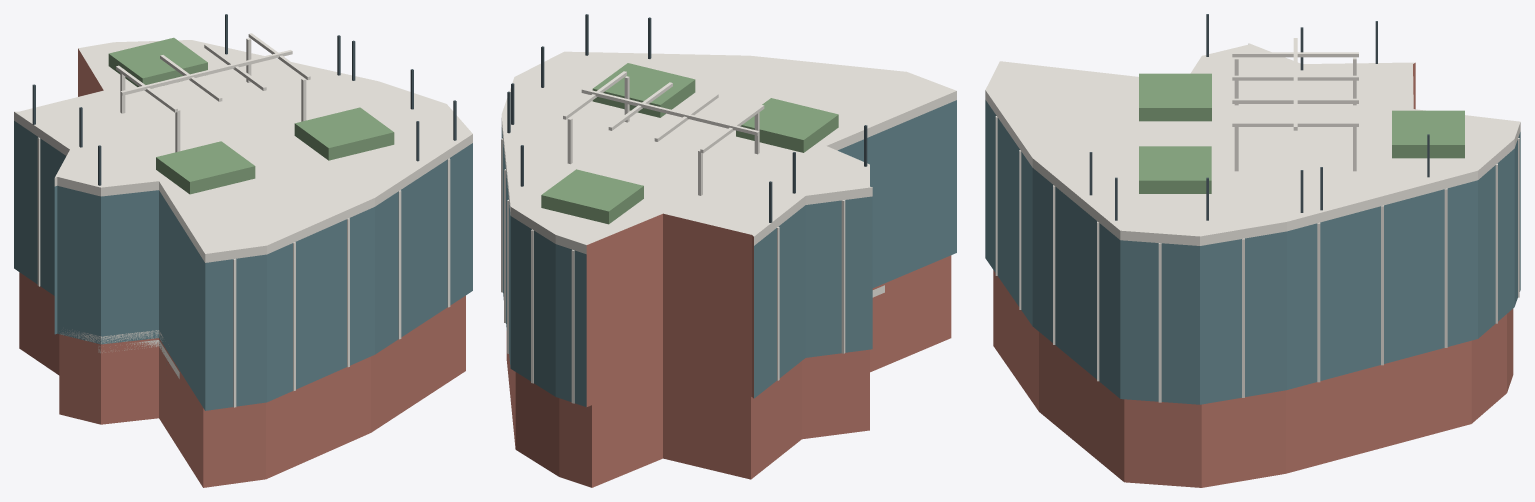
The model's file is gsh.glb.
The picture shows the model from 3 angles, left to right: view 1: azimuth 30°, elevation 25°; view 2: azimuth 150°, elevation 25°; view 3: azimuth 270°, elevation 25°; orthographic projection. The views are drawn at different scales.
Visible parts, largest first — view 1: GSH_glass, GSH_roof_slab, GSH_base, GSH_planter_1, GSH_planter_0, GSH_planter_2, GSH_pergola_top, GSH_mid_band, GSH_mullion_10_0, GSH_mullion_0_0, GSH_mullion_2_0, GSH_mullion_2_1; view 2: GSH_glass, GSH_roof_slab, GSH_base, GSH_planter_2, GSH_planter_0, GSH_planter_1, GSH_pergola_top, GSH_mullion_11_0, GSH_mullion_7_0; view 3: GSH_glass, GSH_roof_slab, GSH_base, GSH_planter_0, GSH_planter_2, GSH_planter_1, GSH_pergola_0, GSH_pergola_1, GSH_pergola_2, GSH_mullion_3_0, GSH_mullion_5_0, GSH_mullion_5_2 (+1 smaller).
Boxes of the visible parts, x1,y1,x2,y2 form: GSH_glass: (14, 57, 472, 410); GSH_roof_slab: (14, 40, 472, 262); GSH_base: (19, 272, 465, 487); GSH_planter_1: (294, 107, 394, 160); GSH_planter_0: (156, 141, 255, 194); GSH_planter_2: (108, 37, 207, 86); GSH_pergola_top: (120, 50, 292, 95); GSH_mid_band: (60, 329, 163, 343); GSH_mullion_10_0: (37, 137, 40, 286); GSH_mullion_0_0: (233, 259, 236, 407); GSH_mullion_2_0: (398, 190, 401, 339); GSH_mullion_2_1: (447, 158, 450, 307); GSH_glass: (501, 100, 956, 407); GSH_roof_slab: (501, 51, 956, 254); GSH_base: (506, 255, 951, 487); GSH_planter_2: (541, 169, 643, 224); GSH_planter_0: (736, 98, 838, 152); GSH_planter_1: (592, 63, 695, 117); GSH_pergola_top: (581, 88, 759, 135); GSH_mullion_11_0: (841, 200, 845, 353); GSH_mullion_7_0: (571, 249, 574, 403); GSH_glass: (985, 72, 1520, 404); GSH_roof_slab: (985, 43, 1520, 245); GSH_base: (993, 270, 1513, 487); GSH_planter_0: (1139, 73, 1211, 121); GSH_planter_2: (1392, 110, 1464, 158); GSH_planter_1: (1139, 146, 1211, 193); GSH_pergola_0: (1232, 52, 1358, 57); GSH_pergola_1: (1232, 75, 1358, 80); GSH_pergola_2: (1232, 98, 1358, 103); GSH_mullion_3_0: (1158, 243, 1161, 402); GSH_mullion_5_0: (1317, 222, 1320, 382); GSH_mullion_5_2: (1444, 188, 1447, 347).
Size of the model in its own units: 21.69 by 15.99 by 25.36.
